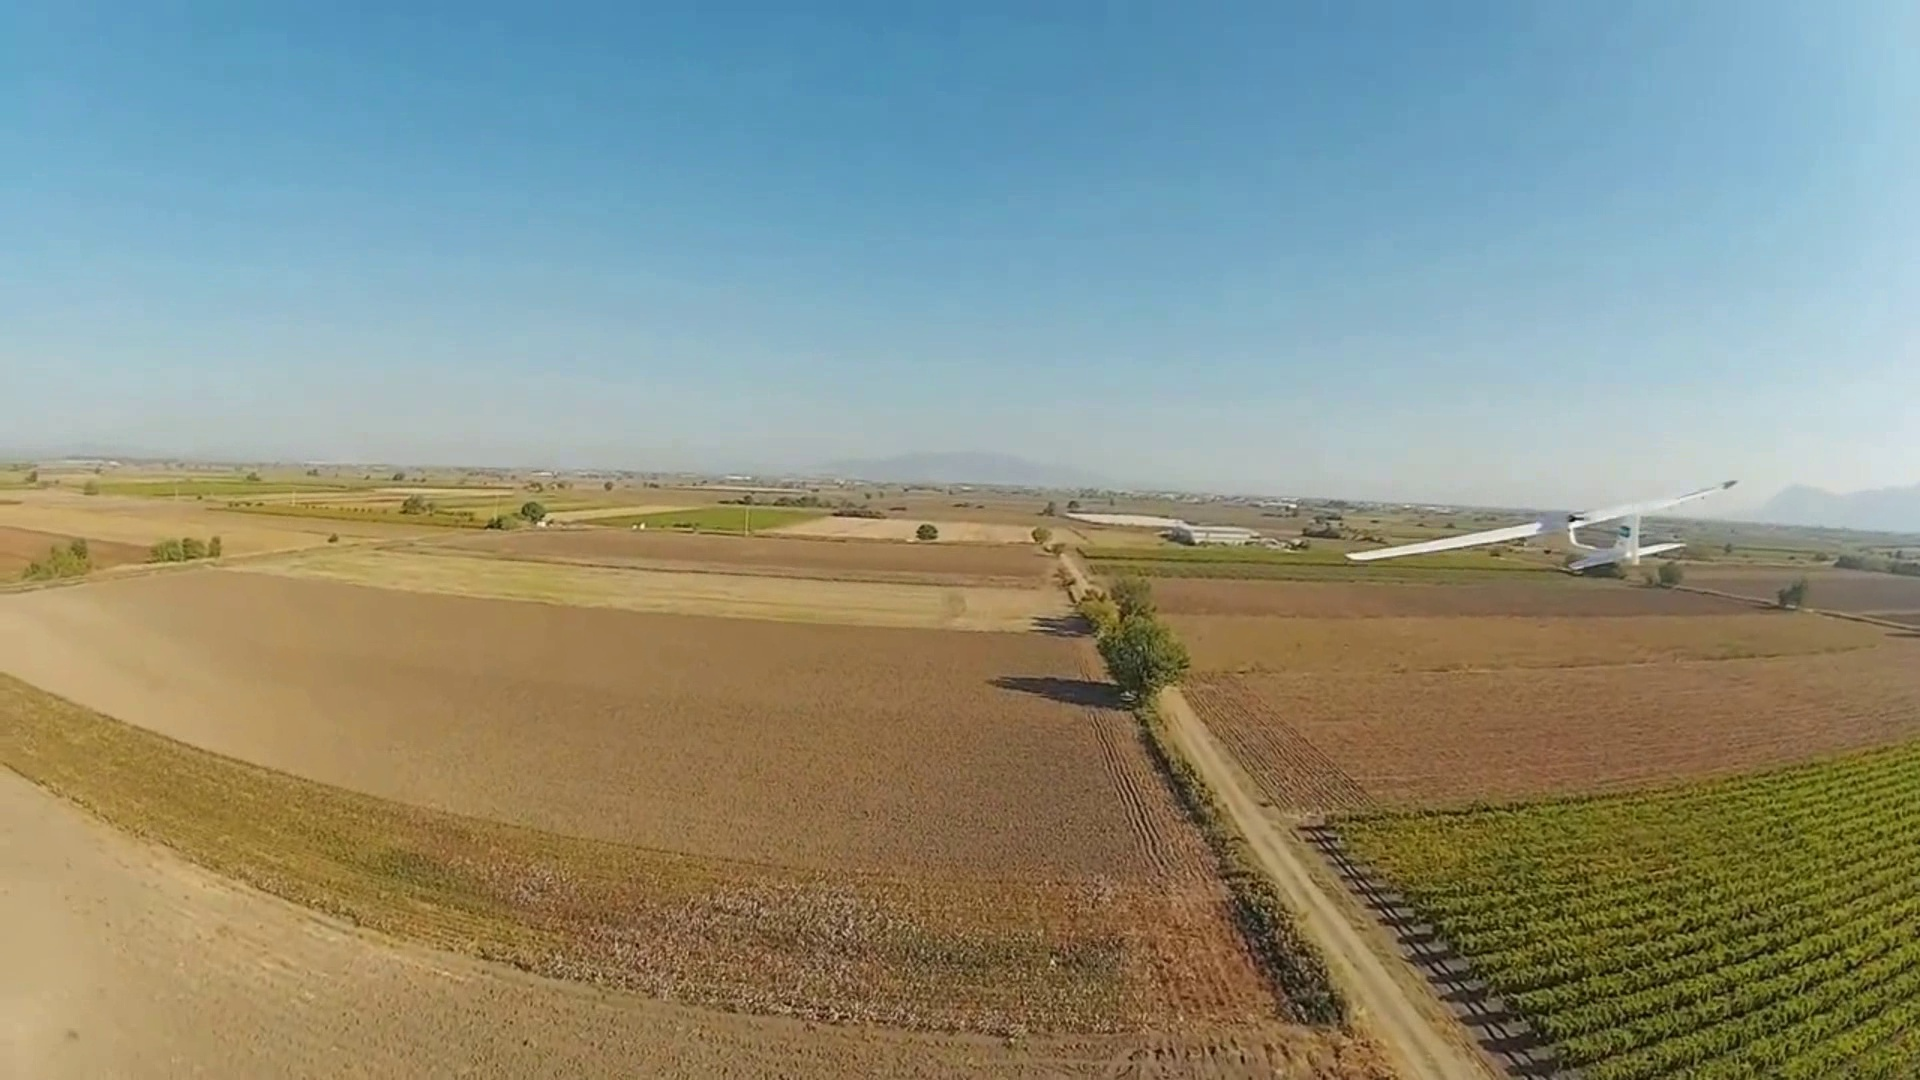airplane: (1348, 467, 1741, 579)
